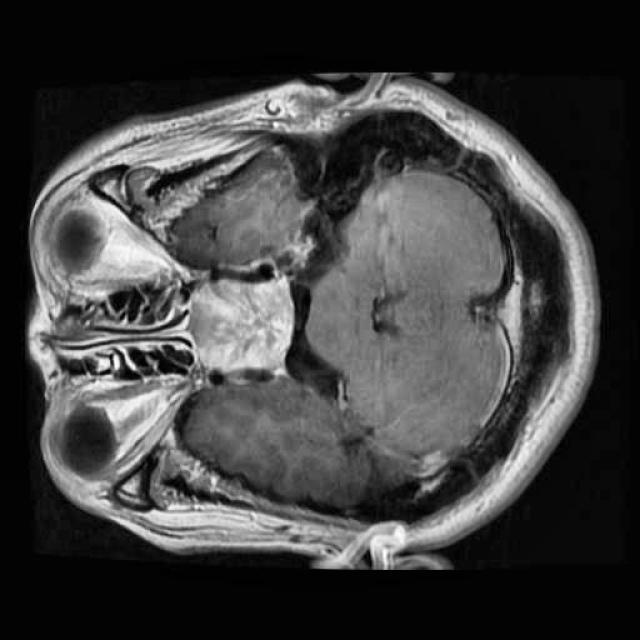Tumor: (176, 256, 304, 394)
